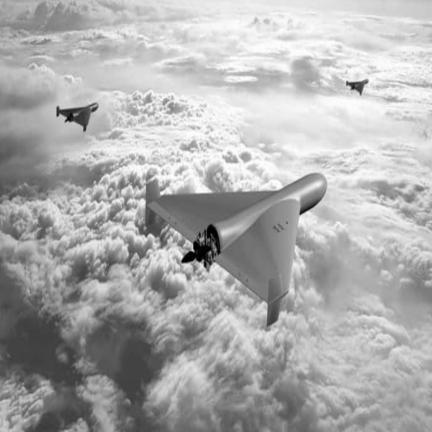Shahed: (146, 174, 327, 325), (57, 103, 98, 131), (347, 79, 368, 95)
